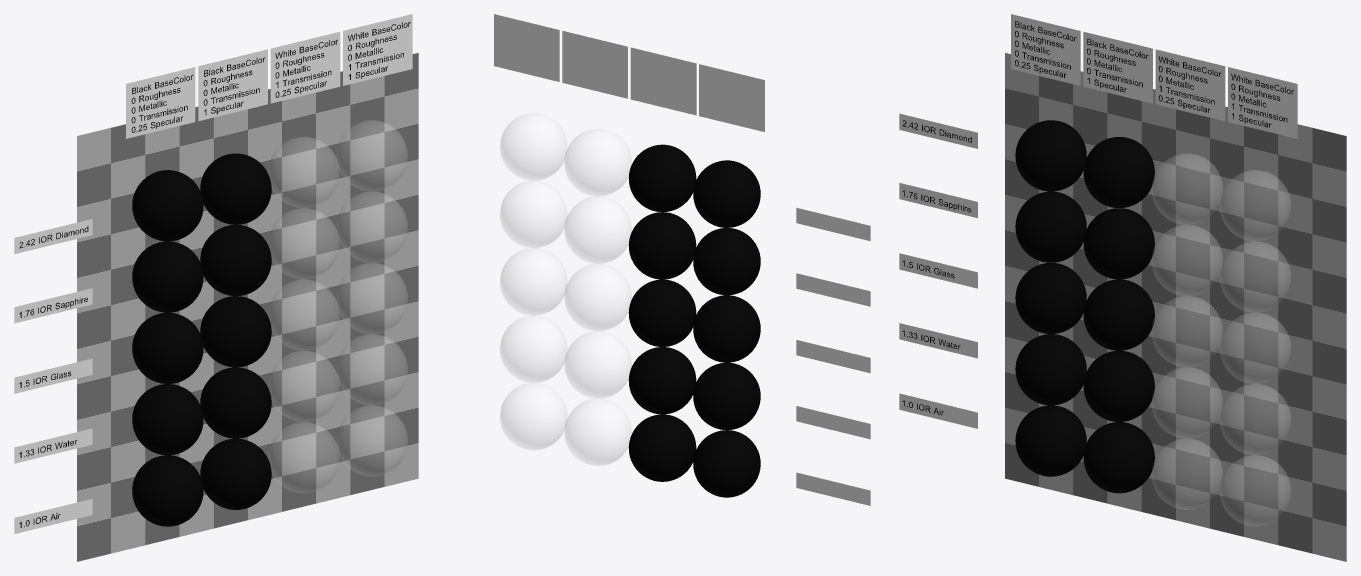
Rendered from IORTestGrid.glb.
The picture shows the model from 3 angles, left to right: view 1: azimuth 30°, elevation 25°; view 2: azimuth 150°, elevation 25°; view 3: azimuth 330°, elevation 25°; orthographic projection. The views are drawn at different scales.
Visible parts, largest first — view 1: Backdrop, Text Backdrop, Text, IOR1.76_Black_R0_M0_T0_S0.25, IOR1.5_Black_R0_M0_T0_S0.25, IOR1.33_Black_R0_M0_T0_S0.25, IOR1.0_Black_R0_M0_T0_S0.25, IOR2.42_Black_R0_M0_T0_S0.25, IOR1.0_Black_R0_M0_T0_S1, IOR1.5_Black_R0_M0_T0_S1, IOR2.42_Black_R0_M0_T0_S1, IOR1.76_Black_R0_M0_T0_S1 (+11 smaller); view 2: Text Backdrop, IOR1.76_Black_R0_M0_T0_S0.25, IOR1.33_Black_R0_M0_T0_S0.25, IOR1.5_Black_R0_M0_T0_S0.25, IOR1.0_Black_R0_M0_T0_S0.25, IOR2.42_Black_R0_M0_T0_S0.25, IOR1.0_Black_R0_M0_T0_S1, IOR1.33_Black_R0_M0_T0_S1, IOR1.76_Black_R0_M0_T0_S1, IOR1.5_Black_R0_M0_T0_S1, IOR2.42_Black_R0_M0_T0_S1, IOR1.5_White_R0_M0_T1_S1 (+9 smaller); view 3: Backdrop, Text Backdrop, Text, IOR1.76_Black_R0_M0_T0_S1, IOR1.5_Black_R0_M0_T0_S1, IOR1.33_Black_R0_M0_T0_S1, IOR2.42_Black_R0_M0_T0_S1, IOR1.0_Black_R0_M0_T0_S1, IOR1.76_Black_R0_M0_T0_S0.25, IOR2.42_Black_R0_M0_T0_S0.25, IOR1.5_Black_R0_M0_T0_S0.25, IOR1.33_Black_R0_M0_T0_S0.25 (+11 smaller).
Part boxes in pixels (bbox=[...]): Backdrop: bbox=[77, 53, 418, 561]; Text Backdrop: bbox=[14, 14, 412, 533]; Text: bbox=[19, 22, 410, 527]; IOR1.76_Black_R0_M0_T0_S0.25: bbox=[132, 241, 203, 312]; IOR1.5_Black_R0_M0_T0_S0.25: bbox=[132, 312, 203, 383]; IOR1.33_Black_R0_M0_T0_S0.25: bbox=[132, 384, 203, 455]; IOR1.0_Black_R0_M0_T0_S0.25: bbox=[132, 455, 203, 526]; IOR2.42_Black_R0_M0_T0_S0.25: bbox=[132, 170, 203, 241]; IOR1.0_Black_R0_M0_T0_S1: bbox=[200, 438, 271, 509]; IOR1.5_Black_R0_M0_T0_S1: bbox=[200, 296, 271, 367]; IOR2.42_Black_R0_M0_T0_S1: bbox=[200, 153, 271, 224]; IOR1.76_Black_R0_M0_T0_S1: bbox=[200, 225, 271, 295]; Text Backdrop: bbox=[494, 14, 870, 505]; IOR1.76_Black_R0_M0_T0_S0.25: bbox=[693, 228, 760, 295]; IOR1.33_Black_R0_M0_T0_S0.25: bbox=[693, 362, 760, 430]; IOR1.5_Black_R0_M0_T0_S0.25: bbox=[693, 295, 760, 362]; IOR1.0_Black_R0_M0_T0_S0.25: bbox=[693, 430, 760, 497]; IOR2.42_Black_R0_M0_T0_S0.25: bbox=[693, 160, 760, 227]; IOR1.0_Black_R0_M0_T0_S1: bbox=[628, 414, 696, 481]; IOR1.33_Black_R0_M0_T0_S1: bbox=[628, 347, 696, 414]; IOR1.76_Black_R0_M0_T0_S1: bbox=[628, 212, 696, 279]; IOR1.5_Black_R0_M0_T0_S1: bbox=[628, 279, 696, 346]; IOR2.42_Black_R0_M0_T0_S1: bbox=[628, 144, 696, 212]; IOR1.5_White_R0_M0_T1_S1: bbox=[500, 248, 566, 315]; Backdrop: bbox=[1005, 53, 1346, 561]; Text Backdrop: bbox=[899, 14, 1297, 428]; Text: bbox=[902, 21, 1293, 415]; IOR1.76_Black_R0_M0_T0_S1: bbox=[1083, 208, 1154, 279]; IOR1.5_Black_R0_M0_T0_S1: bbox=[1083, 279, 1154, 350]; IOR1.33_Black_R0_M0_T0_S1: bbox=[1083, 350, 1154, 421]; IOR2.42_Black_R0_M0_T0_S1: bbox=[1083, 137, 1154, 207]; IOR1.0_Black_R0_M0_T0_S1: bbox=[1083, 422, 1154, 493]; IOR1.76_Black_R0_M0_T0_S0.25: bbox=[1015, 191, 1086, 262]; IOR2.42_Black_R0_M0_T0_S0.25: bbox=[1015, 120, 1086, 191]; IOR1.5_Black_R0_M0_T0_S0.25: bbox=[1015, 262, 1086, 333]; IOR1.33_Black_R0_M0_T0_S0.25: bbox=[1015, 334, 1086, 405].
Size of the model in its own units: 0.6878 by 0.7516 by 0.1125.
23 materials, 1 textured.
